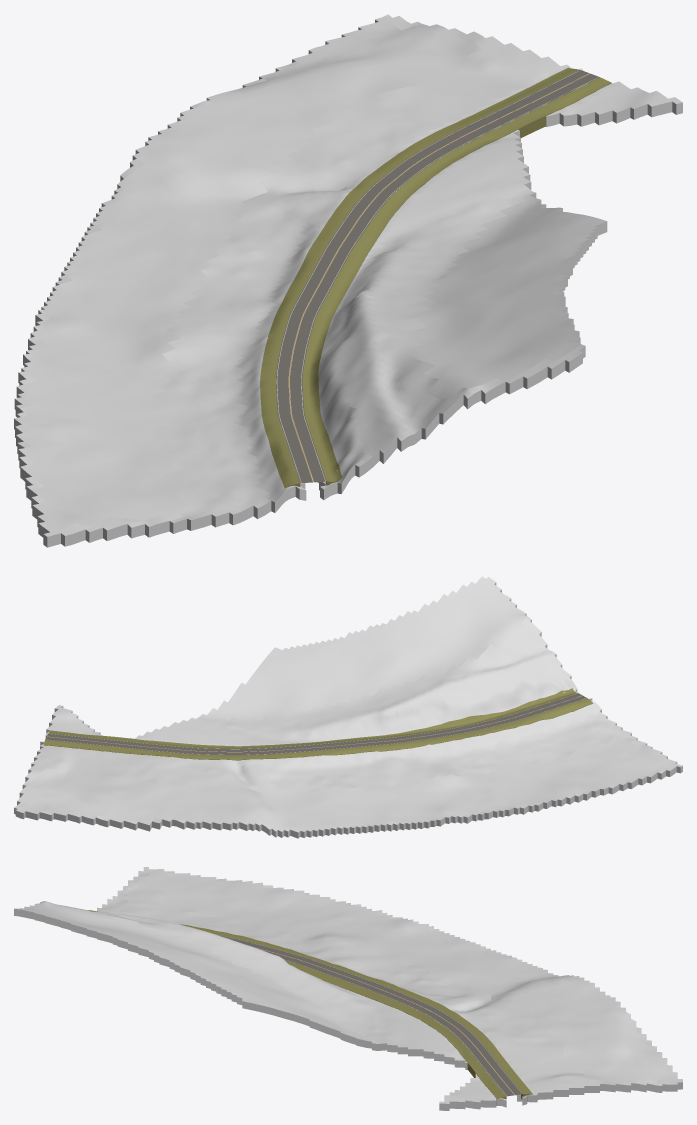
The model's file is conz_48.glb.
3 views of the same model, one above another, from view 1: azimuth 30°, elevation 25°; view 2: azimuth 150°, elevation 25°; view 3: azimuth 270°, elevation 25° (orthographic). The views are drawn at different scales.
Parts seen in each view (by area): view 1: terrain48, road48, verge48R, verge48L, paint_white48, paint_yellow48; view 2: terrain48, road48, verge48L, verge48R, paint_yellow48; view 3: terrain48, road48, verge48R, verge48L.
Boxes of the visible parts, x1,y1,x2,y2 form: terrain48: (14,14,682,547); road48: (276,70,599,483); verge48R: (302,77,611,485); verge48L: (260,67,579,488); paint_white48: (276,70,597,482); paint_yellow48: (288,73,590,482); terrain48: (14,576,682,838); road48: (45,693,587,755); verge48L: (43,698,592,760); verge48R: (48,688,577,748); paint_yellow48: (47,695,582,752); terrain48: (14,867,682,1110); road48: (213,933,522,1096); verge48R: (285,960,506,1105); verge48L: (88,910,532,1100).
Bounding box in the file's own units: 252 × 45.54 × 258.
